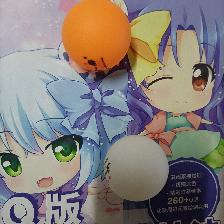WhiteBall: (103, 134, 169, 201)
YellowBall: (60, 0, 131, 71)
